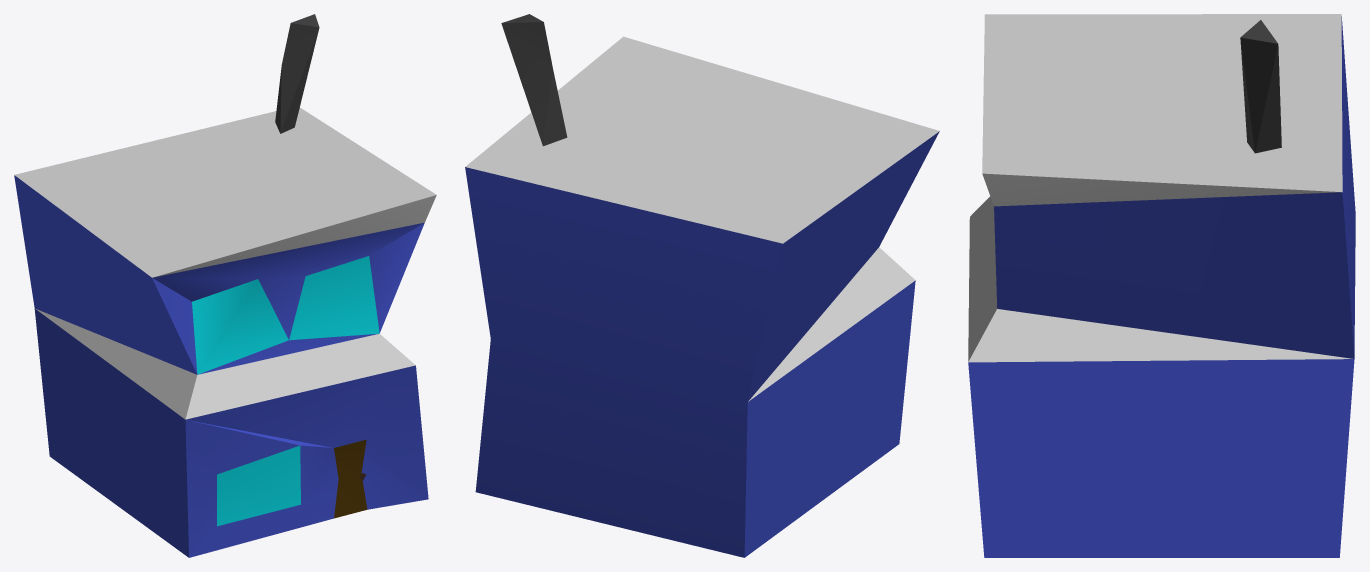
Rendered from PredioPequeno-AzulEscuroLOD2.fbx.
3 renders of one model, left to right at view 1: azimuth 30°, elevation 25°; view 2: azimuth 150°, elevation 25°; view 3: azimuth 270°, elevation 25°, orthographic. The views are drawn at different scales.
Parts seen in each view (by area): view 1: Predio2AndaresLOD2; view 2: Predio2AndaresLOD2; view 3: Predio2AndaresLOD2.
Boxes of the visible parts, bbox=[...] form: Predio2AndaresLOD2: bbox=[14, 14, 436, 557]; Predio2AndaresLOD2: bbox=[465, 14, 939, 557]; Predio2AndaresLOD2: bbox=[968, 14, 1355, 557].
Bounding box in the file's own units: 718 × 975 × 660.
